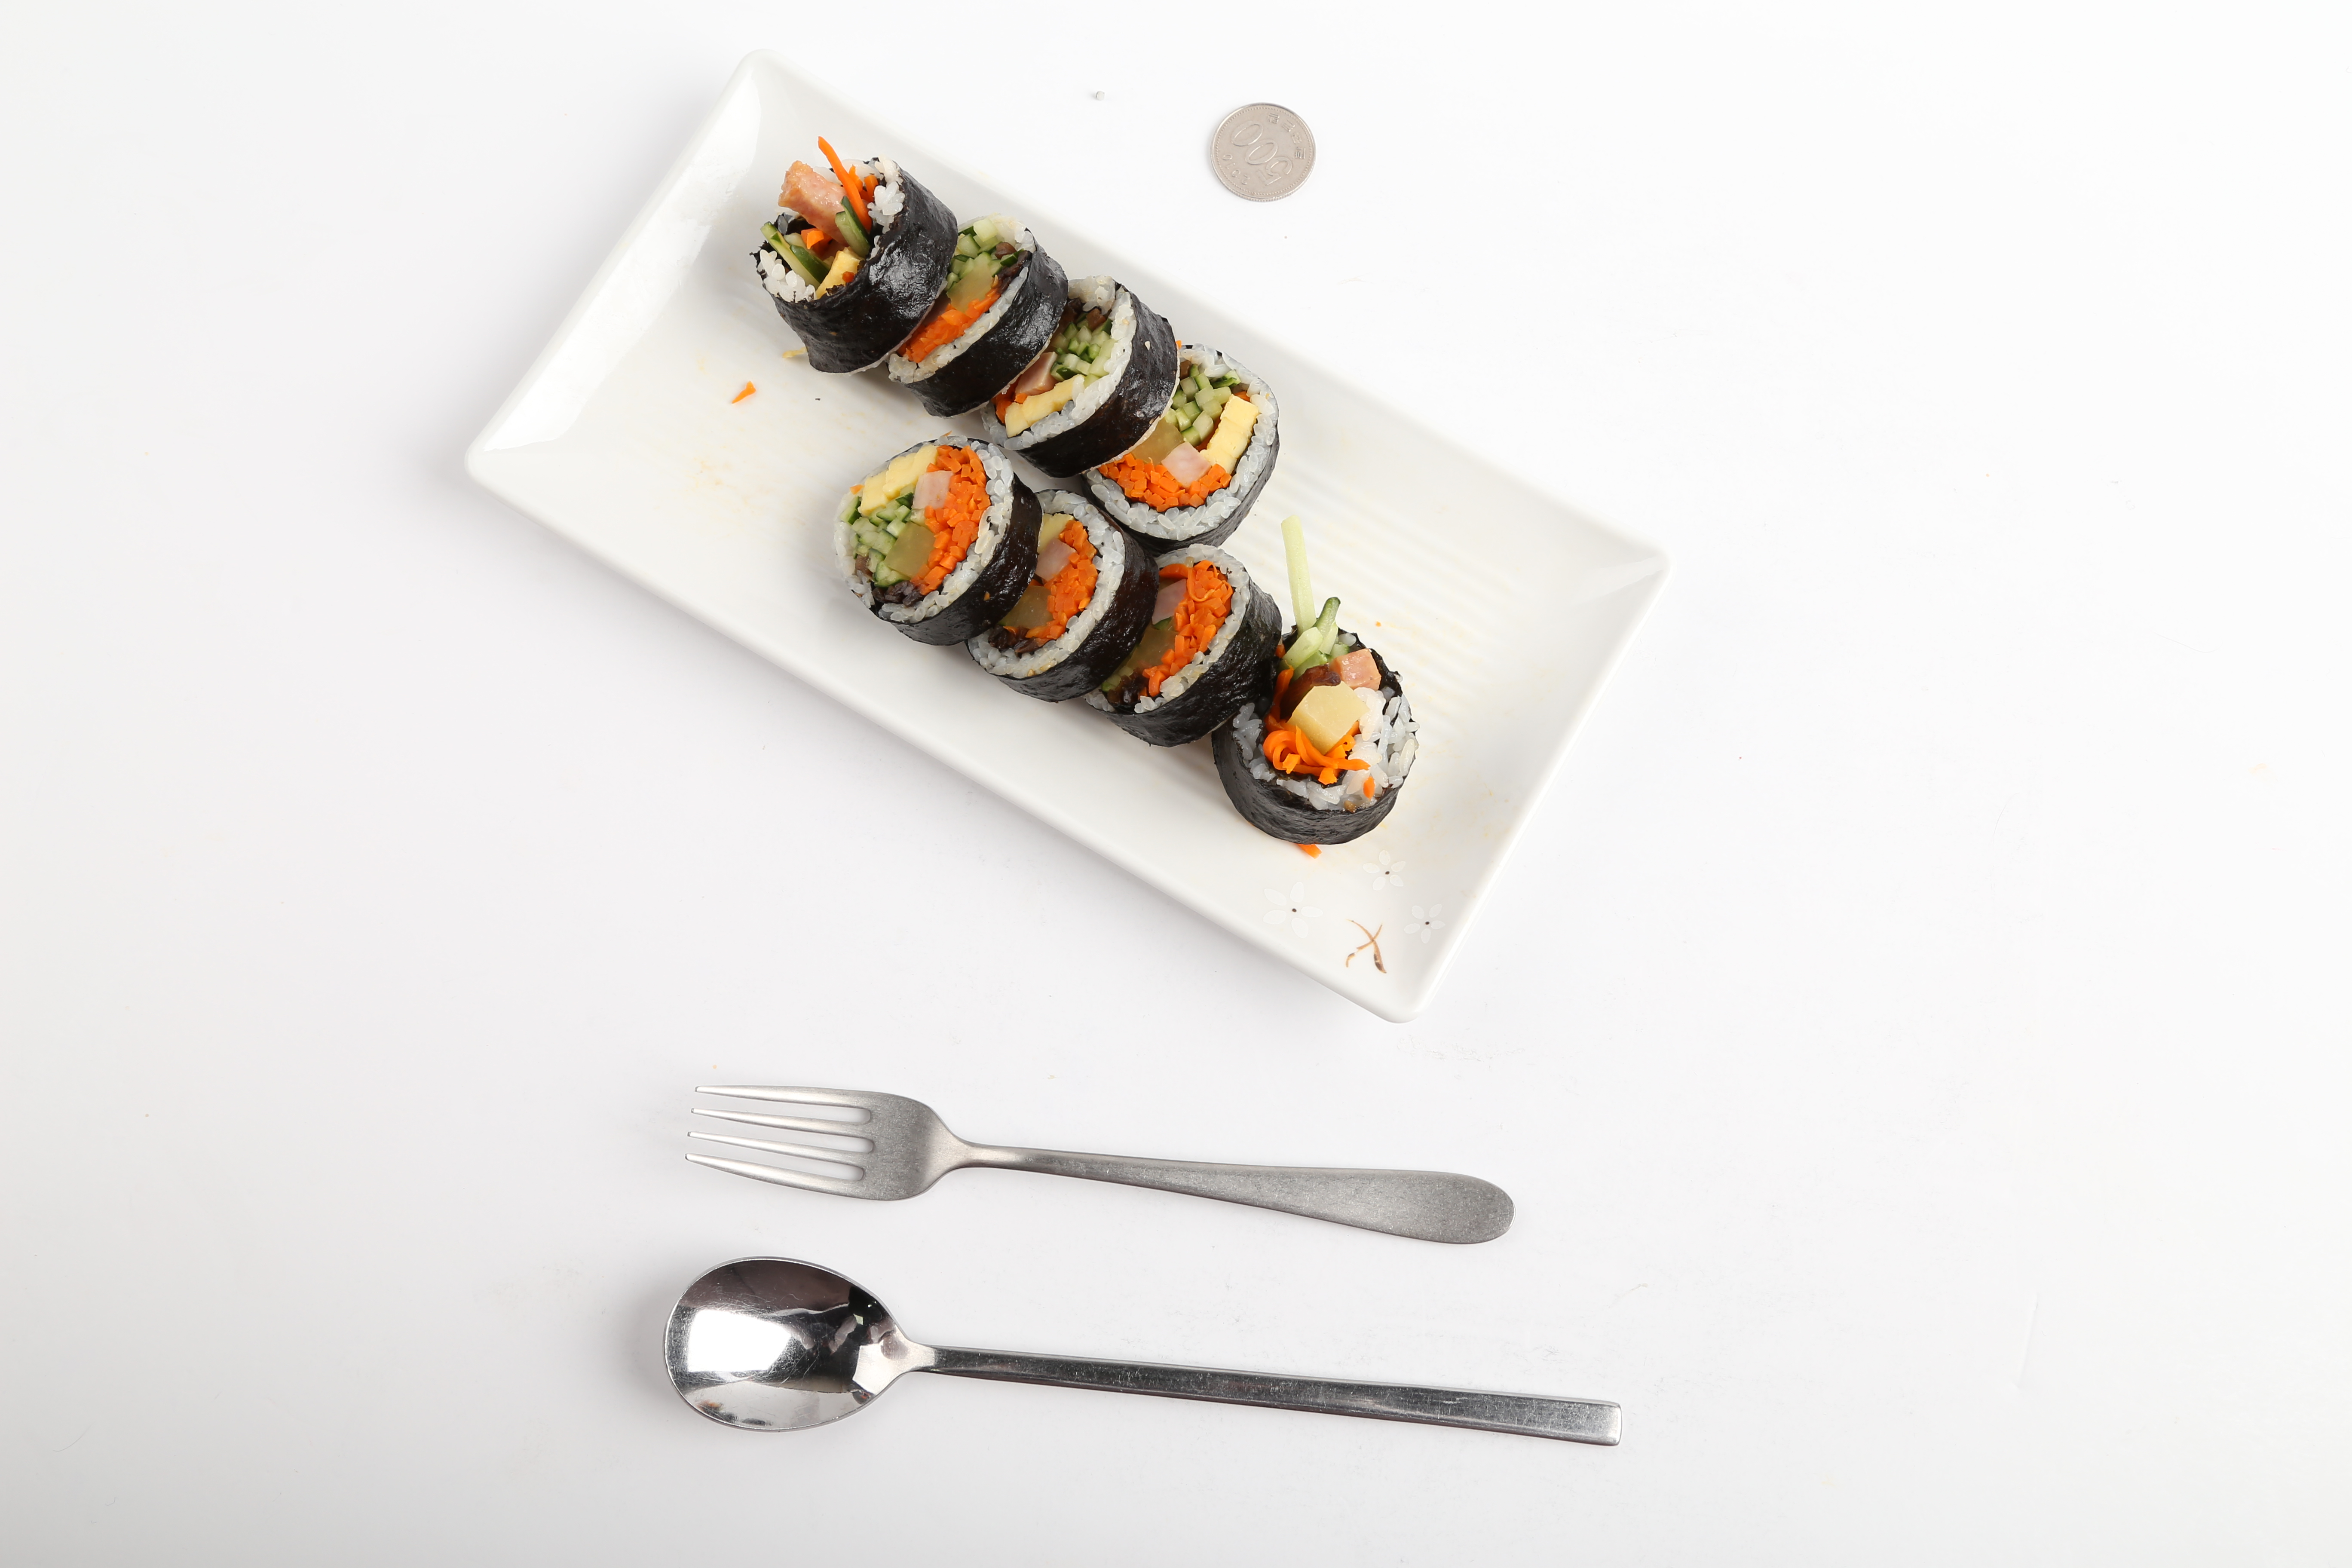dish: (457, 51, 1666, 1025)
ref_coin: (1204, 94, 1321, 206)
ref_fork: (679, 1076, 1041, 1202)
ref_spoon: (660, 1253, 975, 1440)
김밥: (744, 149, 1417, 850)
